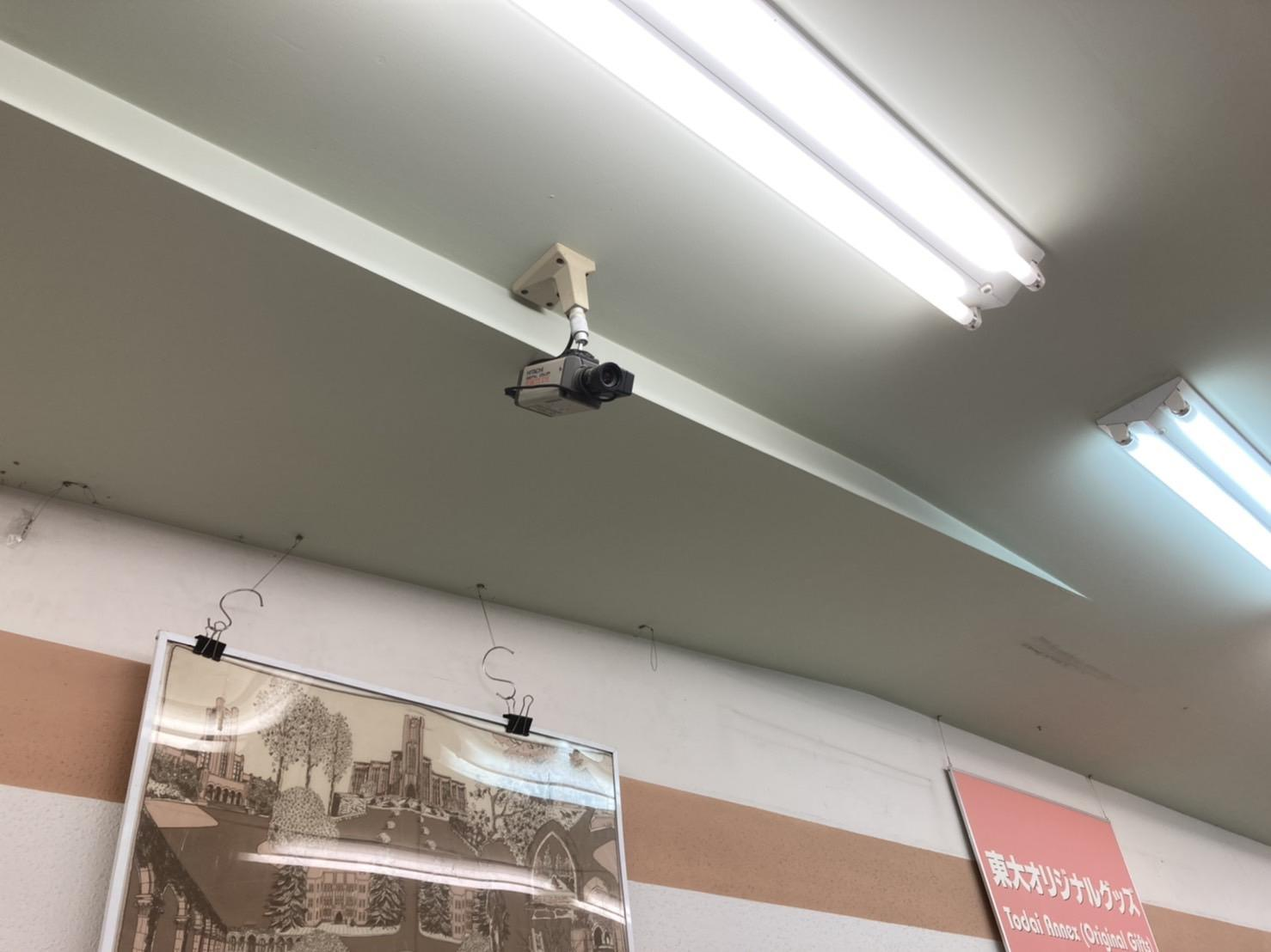tutu: (500, 347, 659, 428)
